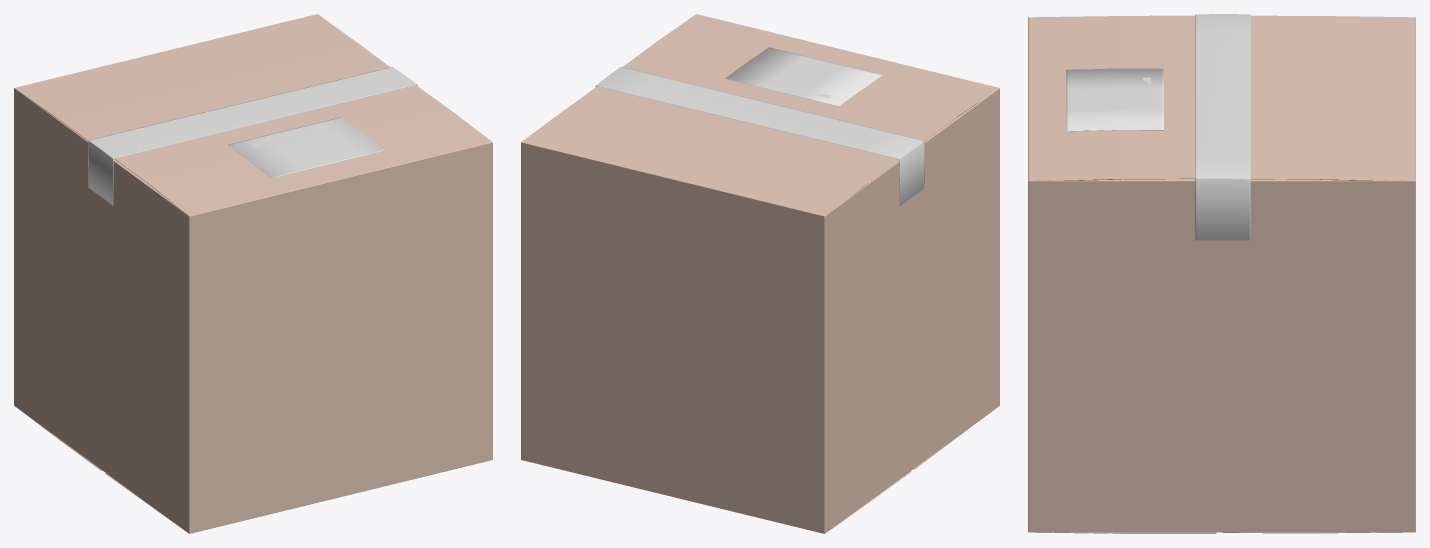
The model's file is uploads_files_3771806_box.fbx.
3 renders of one model, left to right at view 1: azimuth 30°, elevation 25°; view 2: azimuth 150°, elevation 25°; view 3: azimuth 270°, elevation 25°, orthographic. The views are drawn at different scales.
Parts seen in each view (by area): view 1: box, tape, tape.001; view 2: box, tape, tape.001; view 3: box, tape, tape.001.
Part boxes in pixels (<box>): box: <box>14,14,492,533</box>; tape: <box>88,67,417,205</box>; tape.001: <box>228,117,385,178</box>; box: <box>521,14,999,533</box>; tape: <box>595,67,924,206</box>; tape.001: <box>725,47,882,106</box>; box: <box>1028,15,1415,533</box>; tape: <box>1195,14,1250,240</box>; tape.001: <box>1066,68,1163,131</box>.
Size of what is drawn, in the model's own units: 200 by 203 by 200.
